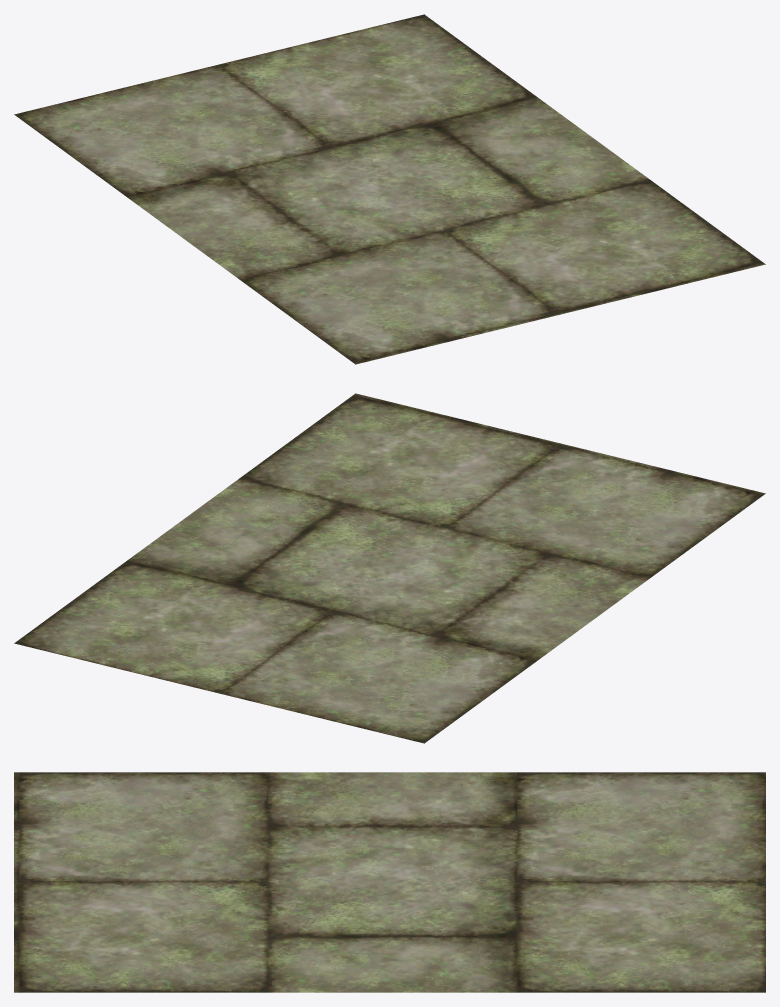
The model's file is OVERHILL_A_01_LINE185.fbx.
The picture shows the model from 3 angles, top to bottom: view 1: azimuth 30°, elevation 25°; view 2: azimuth 150°, elevation 25°; view 3: azimuth 270°, elevation 25°; orthographic projection. The views are drawn at different scales.
Parts seen in each view (by area): view 1: OVERHILL_A_01_LINE185; view 2: OVERHILL_A_01_LINE185; view 3: OVERHILL_A_01_LINE185.
Boxes of the visible parts, x1=… form: OVERHILL_A_01_LINE185: x1=14, y1=14, x2=765, y2=364; OVERHILL_A_01_LINE185: x1=14, y1=393, x2=765, y2=743; OVERHILL_A_01_LINE185: x1=14, y1=772, x2=765, y2=992.
Size of the model in its own units: 34680 by 0.00815 by 50000.
Materials: 1 (1 with a texture image).
